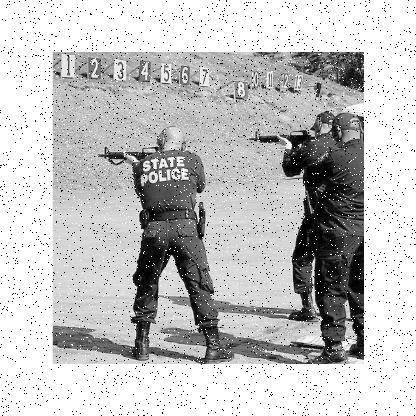gun: (250, 128, 316, 166), (96, 144, 162, 170)
